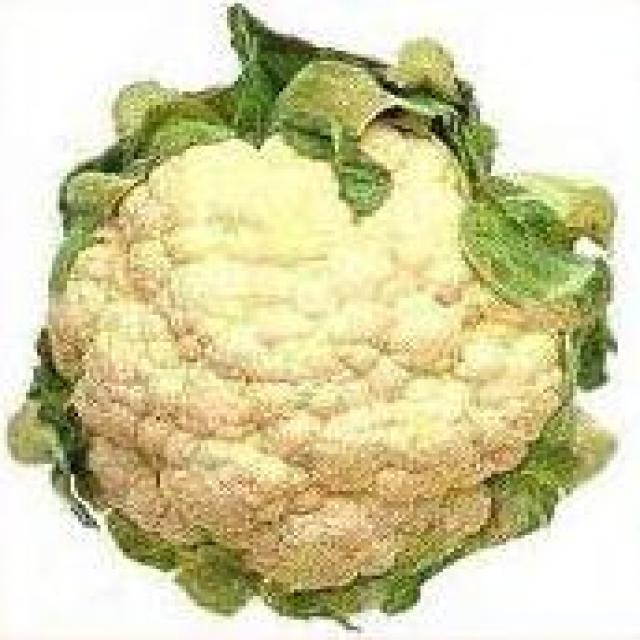cauliflower: (7, 40, 636, 640)
